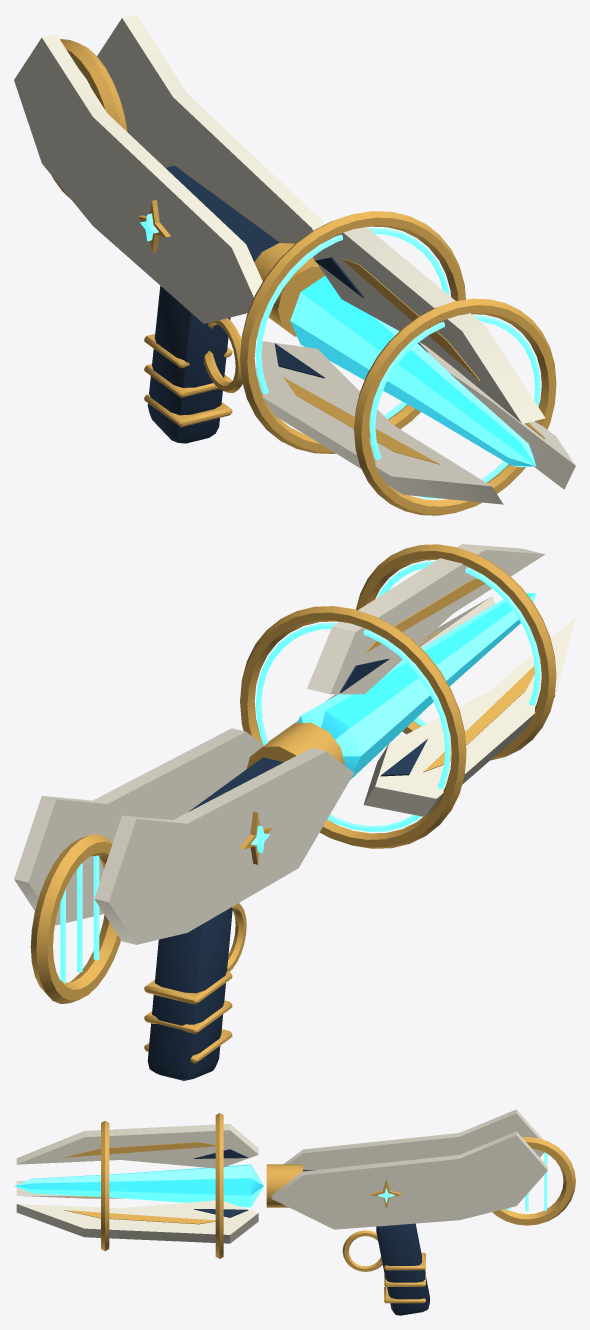
Rendered from astral-ivory-wildspark-set.glb.
3 renders of one model, top to bottom at view 1: azimuth 30°, elevation 25°; view 2: azimuth 150°, elevation 25°; view 3: azimuth 270°, elevation 25°, orthographic. The views are drawn at different scales.
Visible parts, largest first — view 1: WildsparkRotor, WildsparkRepeaterReceiver; view 2: WildsparkRepeaterReceiver, WildsparkRotor; view 3: WildsparkRepeaterReceiver, WildsparkRotor.
Boxes of the visible parts, x1,y1,x2,y2 form: WildsparkRotor: (240,211,575,515); WildsparkRepeaterReceiver: (14,14,325,443); WildsparkRepeaterReceiver: (14,722,353,1080); WildsparkRotor: (240,544,575,848); WildsparkRepeaterReceiver: (266,1109,575,1315); WildsparkRotor: (14,1113,263,1258).
Size of what is drawn, in the model's own units: 0.282 by 0.4082 by 1.08.
